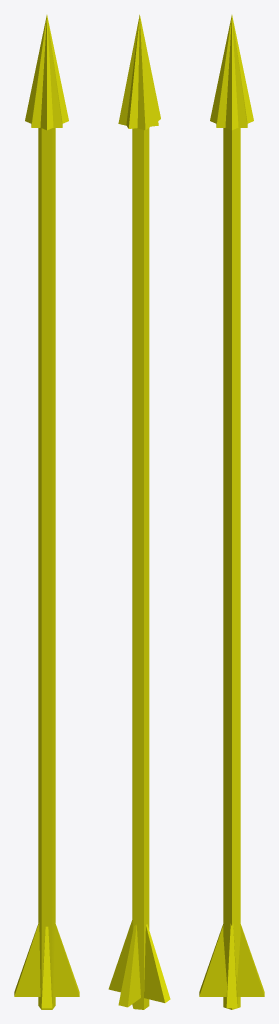
File: _arrow_b_3.glb
The picture shows the model from 3 angles, left to right: view 1: azimuth 90°, elevation 25°; view 2: azimuth 150°, elevation 25°; view 3: azimuth 270°, elevation 25°; orthographic projection.
Parts seen in each view (by area): view 1: arrow_b_3; view 2: arrow_b_3; view 3: arrow_b_3.
Boxes of the visible parts, box(x1,y1,x2,y2) form: arrow_b_3: box(14, 15, 79, 1009); arrow_b_3: box(108, 14, 170, 1009); arrow_b_3: box(199, 15, 264, 1009).
Bounding box in the file's own units: 0.0379 × 0.6336 × 0.0379.
Materials: 1 (1 with a texture image).
